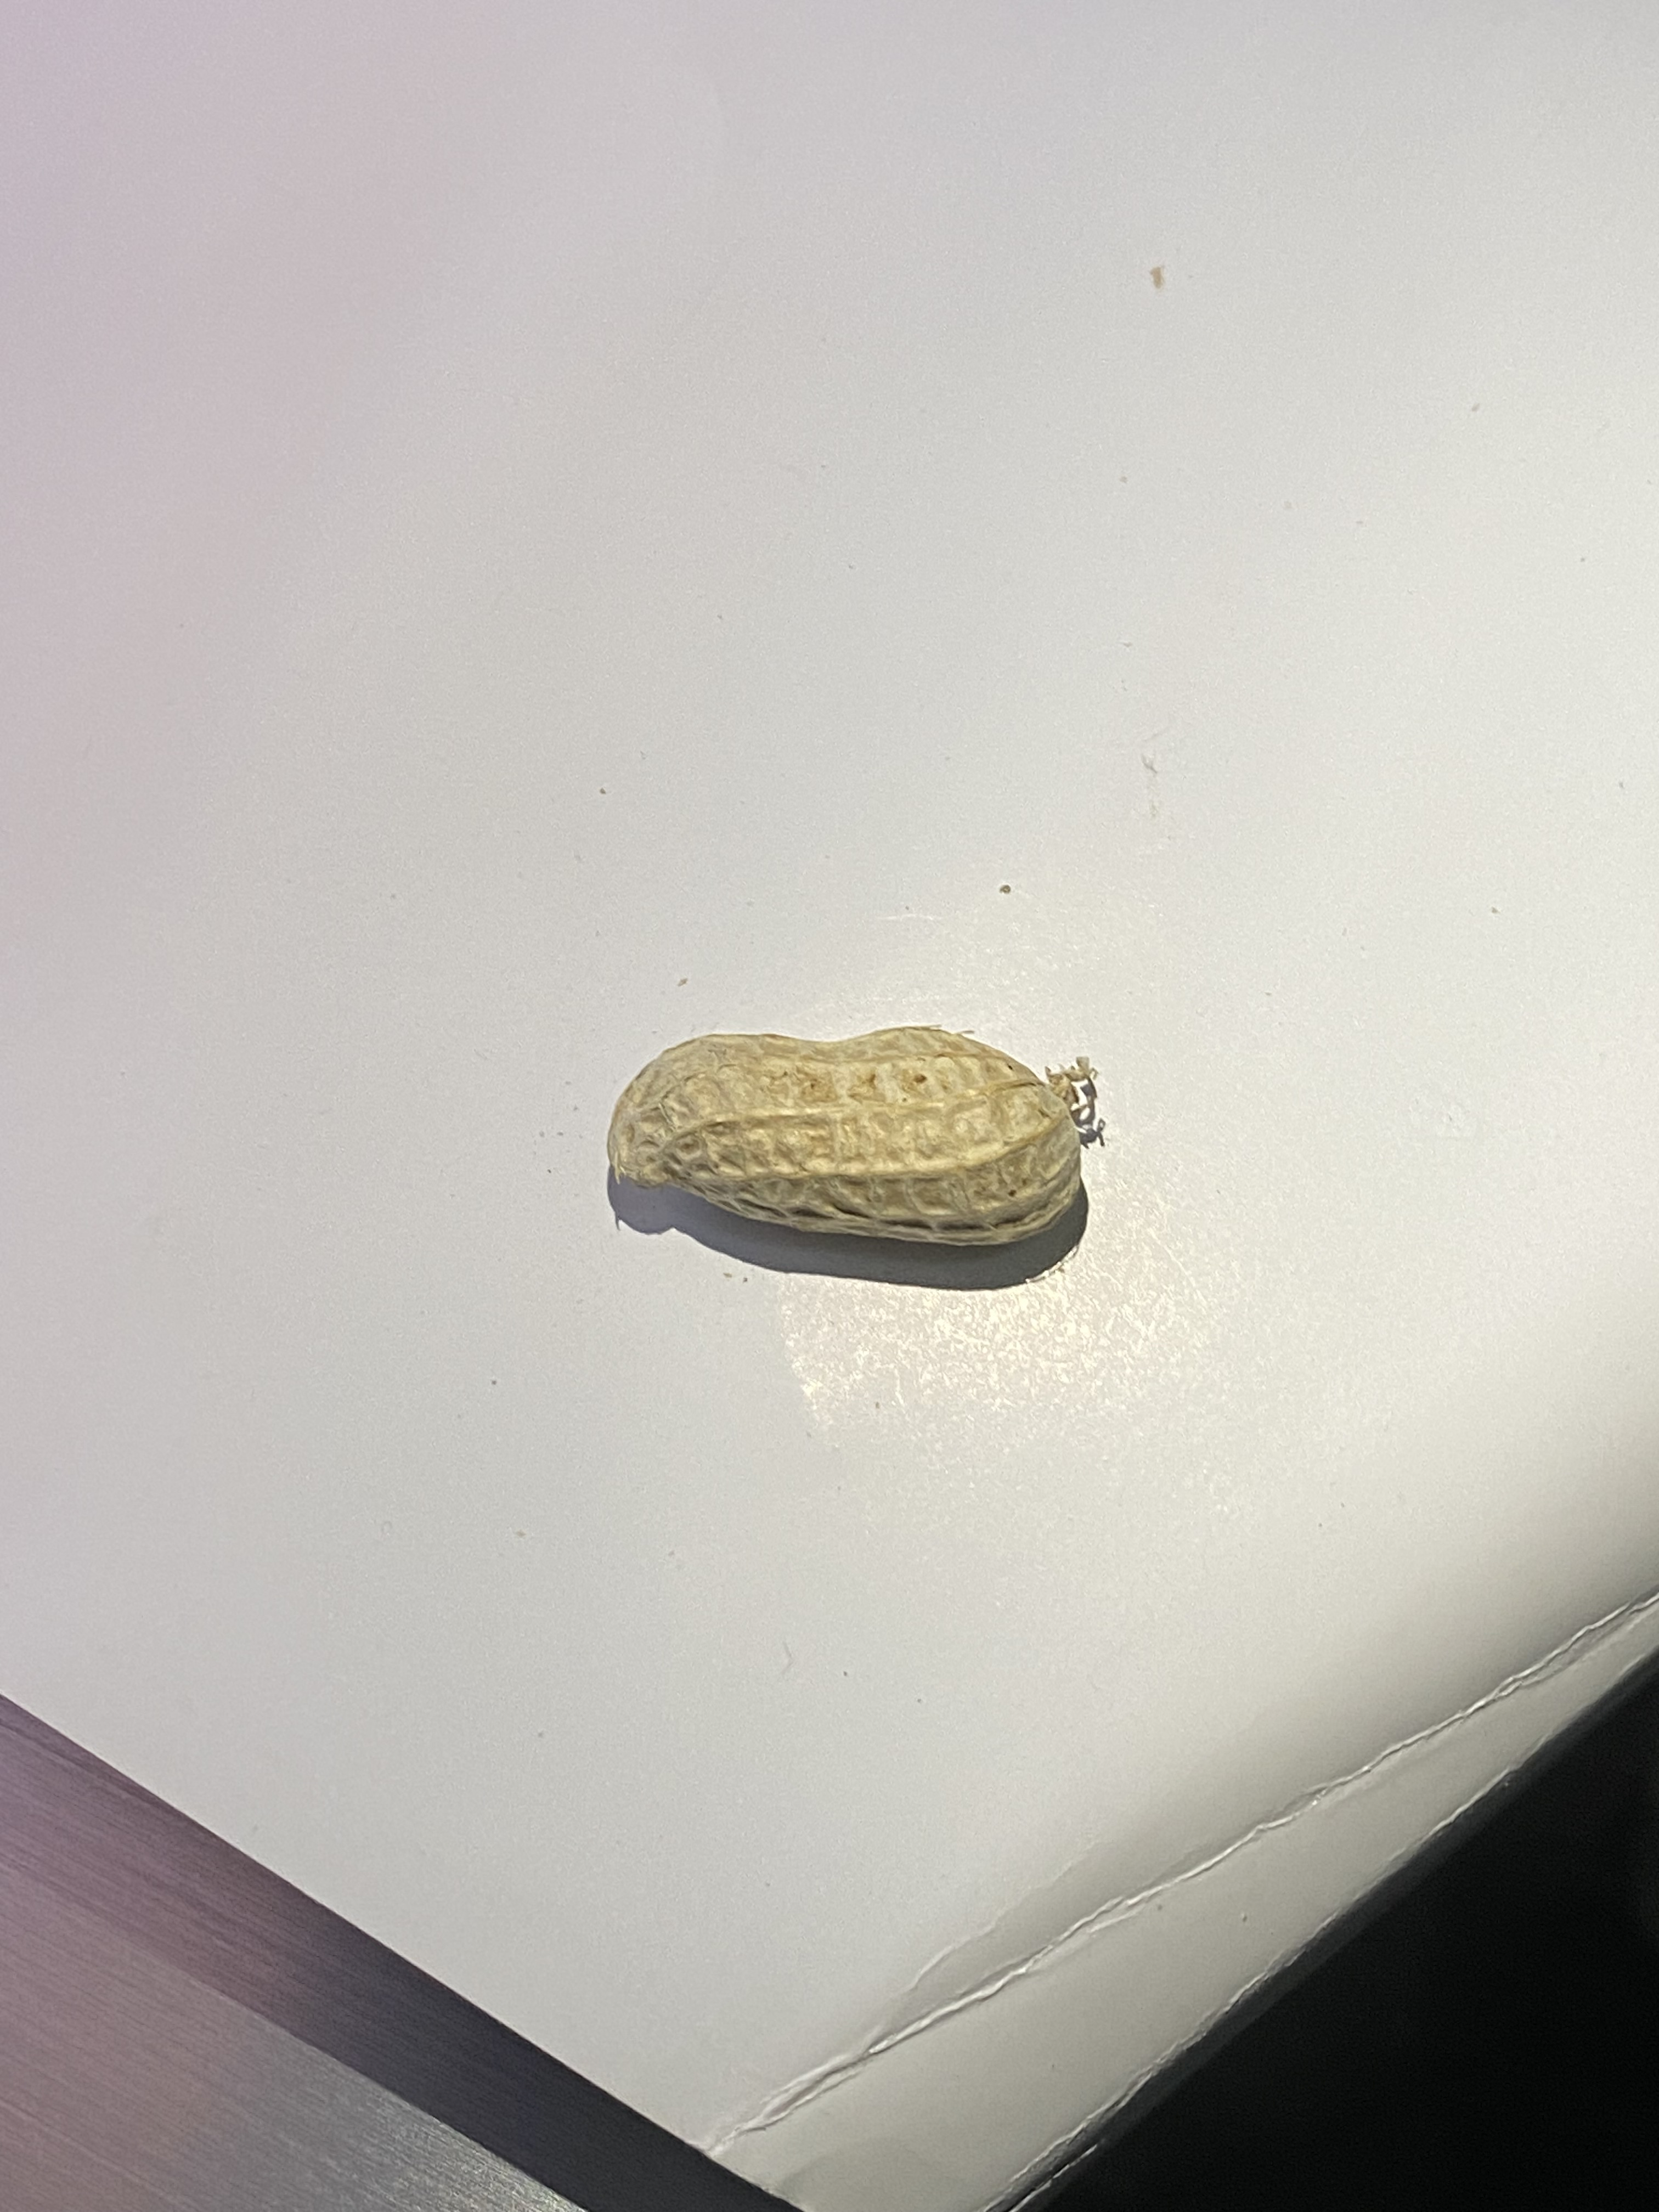kacang1: (580, 1007, 1101, 1291)
